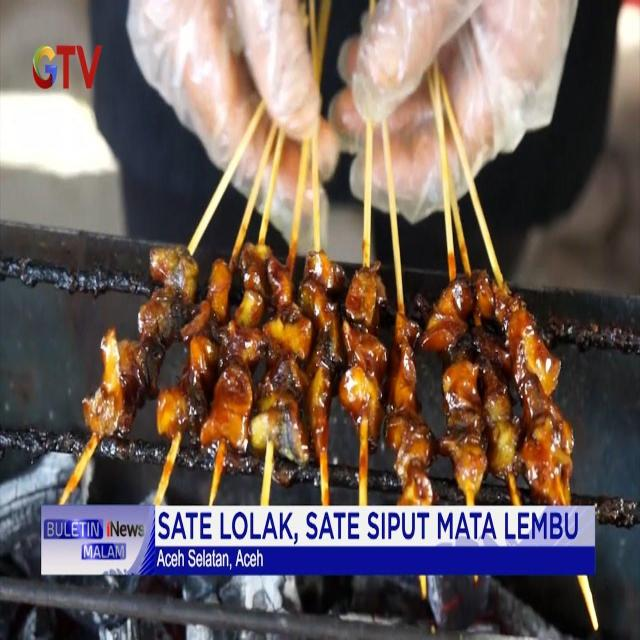Sate: (54, 85, 608, 514)
